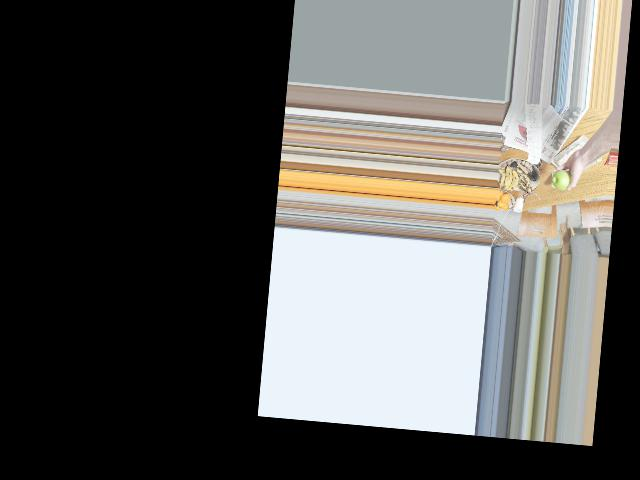apple: (552, 167, 575, 192)
